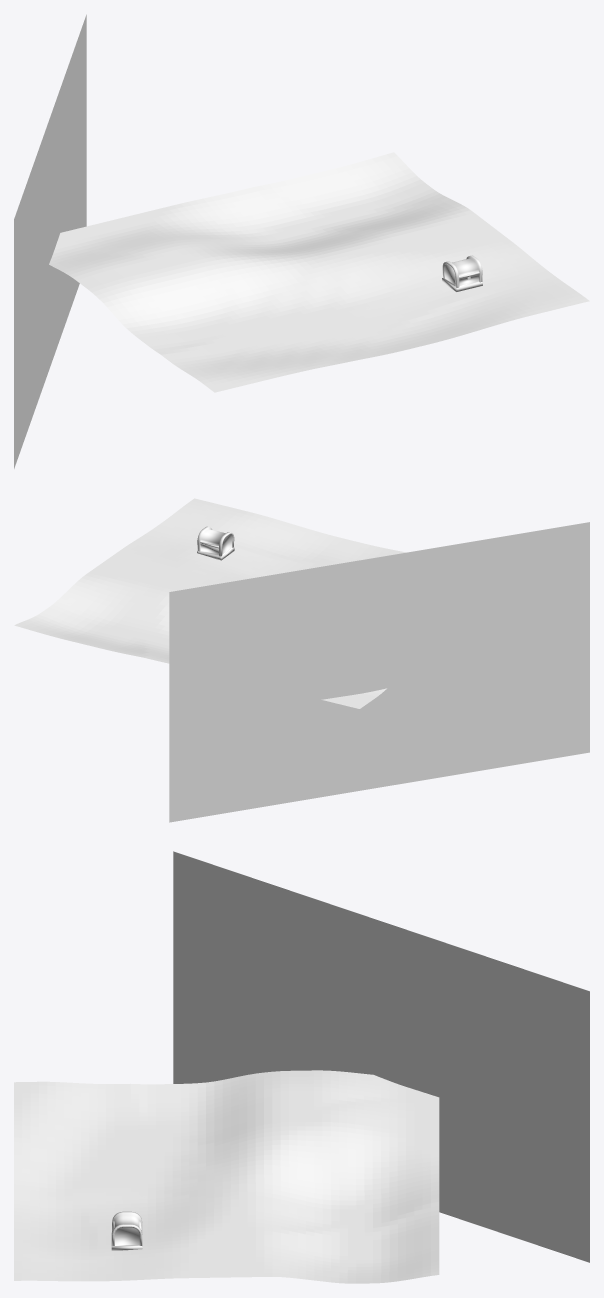
File: chest_1781716545006_model.glb
The picture shows the model from 3 angles, top to bottom: view 1: azimuth 30°, elevation 25°; view 2: azimuth 150°, elevation 25°; view 3: azimuth 270°, elevation 25°; orthographic projection. The views are drawn at different scales.
Visible parts, largest first — view 1: St.Augustine-grass, r0_628_6016_4010_w1200_h678_fmax, Cube; view 2: r0_628_6016_4010_w1200_h678_fmax, St.Augustine-grass, Cube; view 3: r0_628_6016_4010_w1200_h678_fmax, St.Augustine-grass, Cube.
Boxes of the visible parts, x1=… form: St.Augustine-grass: x1=49, y1=152, x2=589, y2=392; r0_628_6016_4010_w1200_h678_fmax: x1=14, y1=14, x2=86, y2=468; Cube: x1=442, y1=255, x2=482, y2=291; r0_628_6016_4010_w1200_h678_fmax: x1=169, y1=522, x2=589, y2=822; St.Augustine-grass: x1=14, y1=498, x2=406, y2=708; Cube: x1=197, y1=526, x2=234, y2=560; r0_628_6016_4010_w1200_h678_fmax: x1=173, y1=851, x2=589, y2=1262; St.Augustine-grass: x1=14, y1=1070, x2=439, y2=1283; Cube: x1=111, y1=1211, x2=142, y2=1250.
Size of the model in its own units: 79.38 by 37.76 by 72.59.
Materials: 5 (2 with a texture image).
